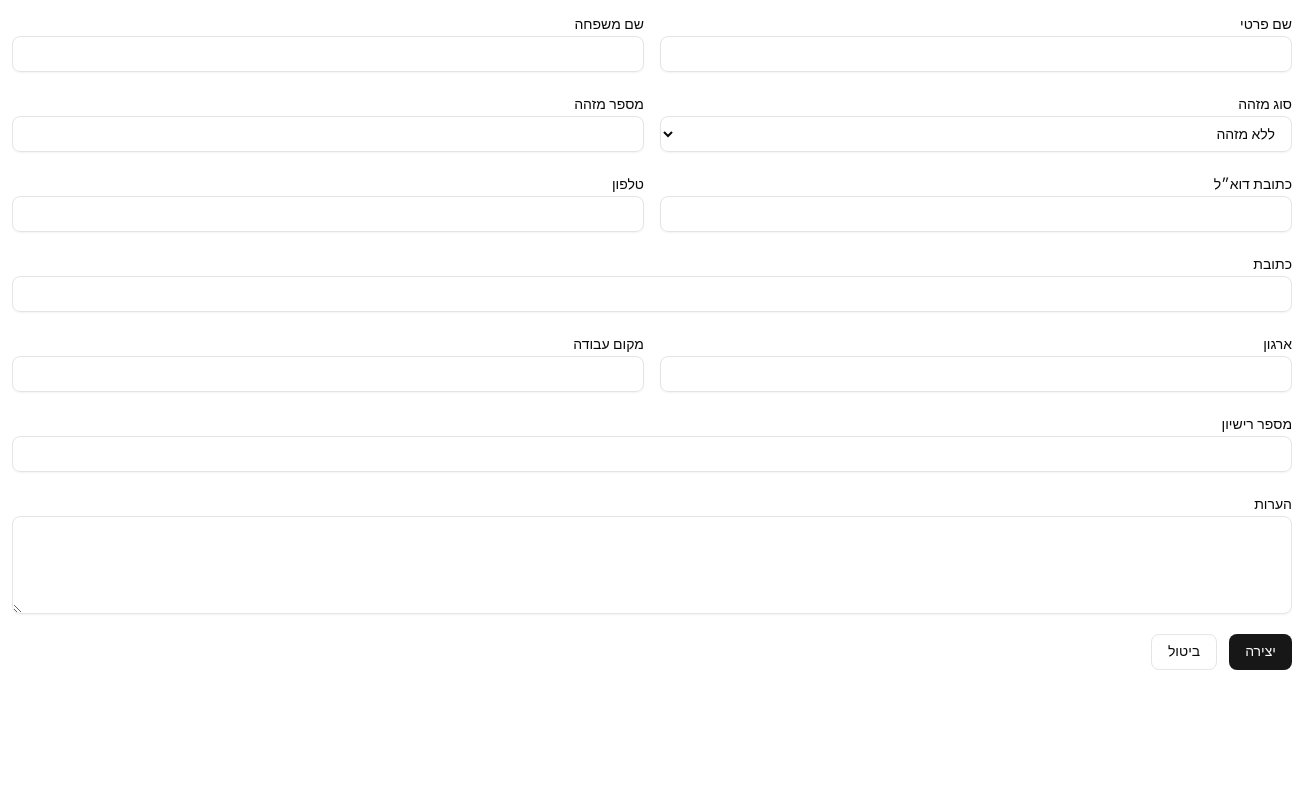
it: PersonForm › rejects an Israeli ID without its checksum
The width and height of the screenshot is (1304, 812).
In the field labelled "שם פרטי": (976, 54) x1=660 y1=36 x2=1292 y2=72, type "דנה"
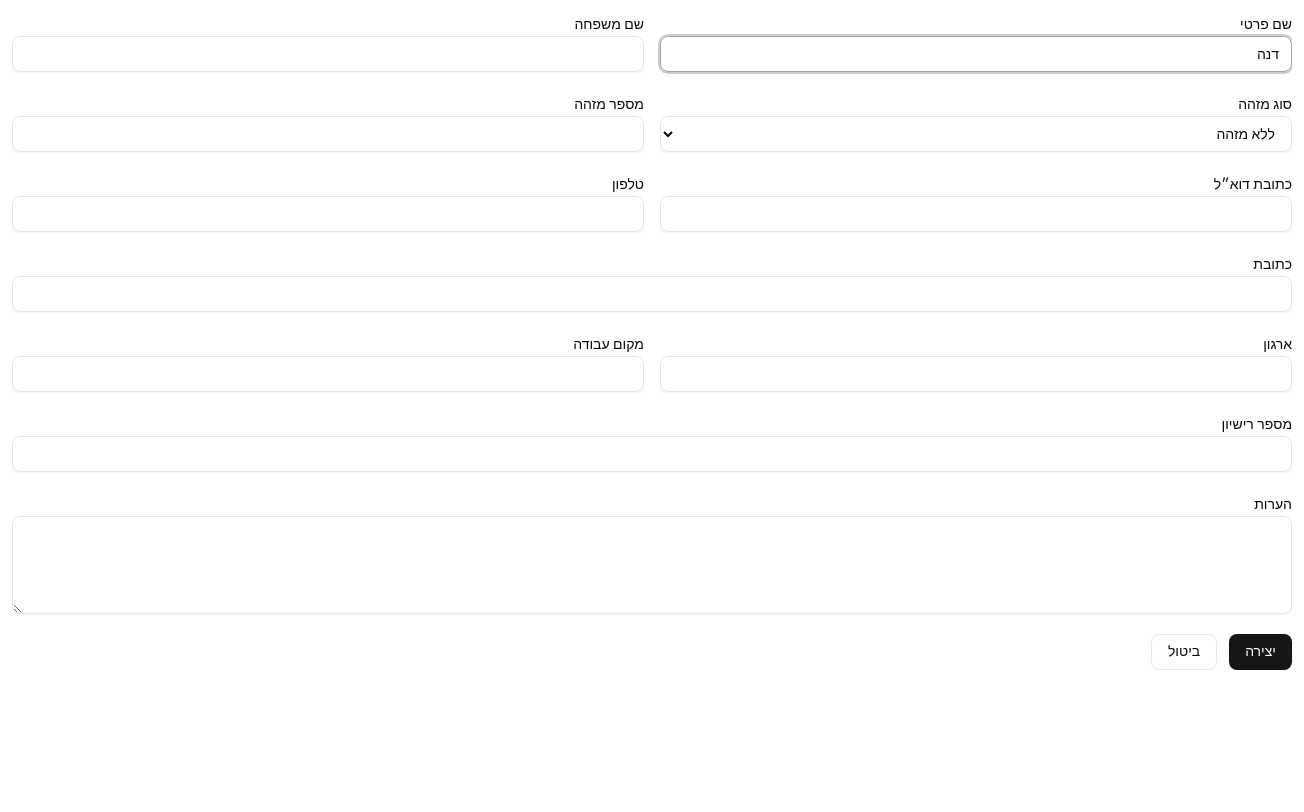
In the field labelled "שם משפחה": (328, 54) x1=12 y1=36 x2=644 y2=72, type "לוי"
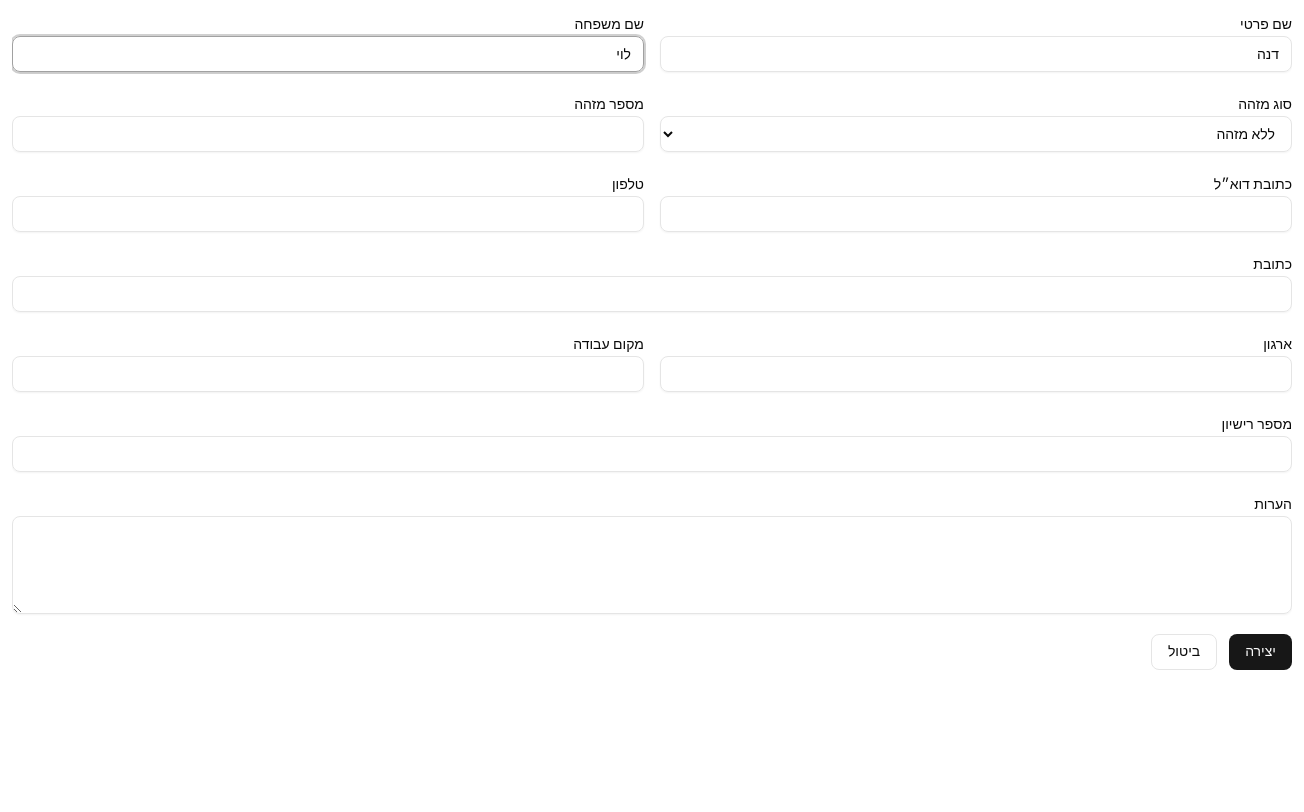
Select "תעודת זהות" in the dropdown labelled "סוג מזהה": (976, 134) x1=660 y1=116 x2=1292 y2=152
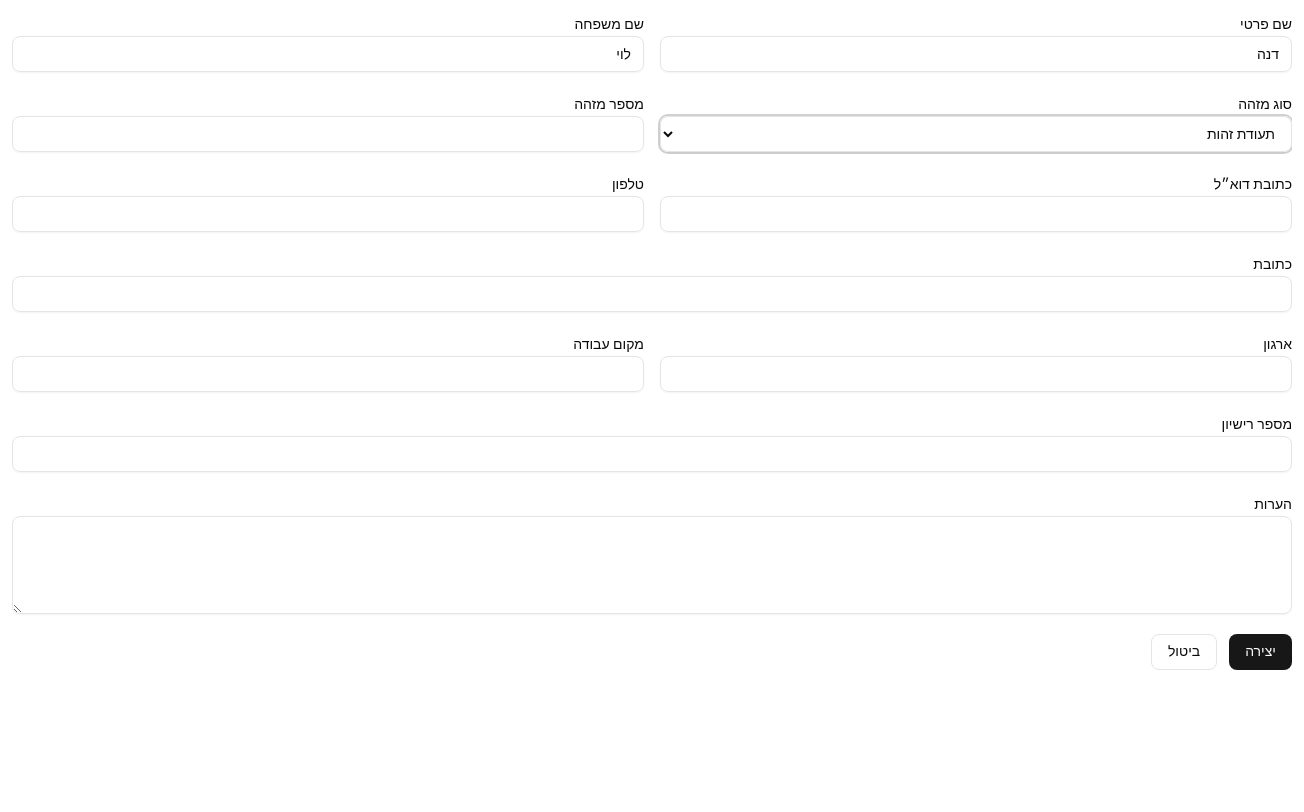
In the field labelled "מספר מזהה": (328, 134) x1=12 y1=116 x2=644 y2=152, type "123456780"
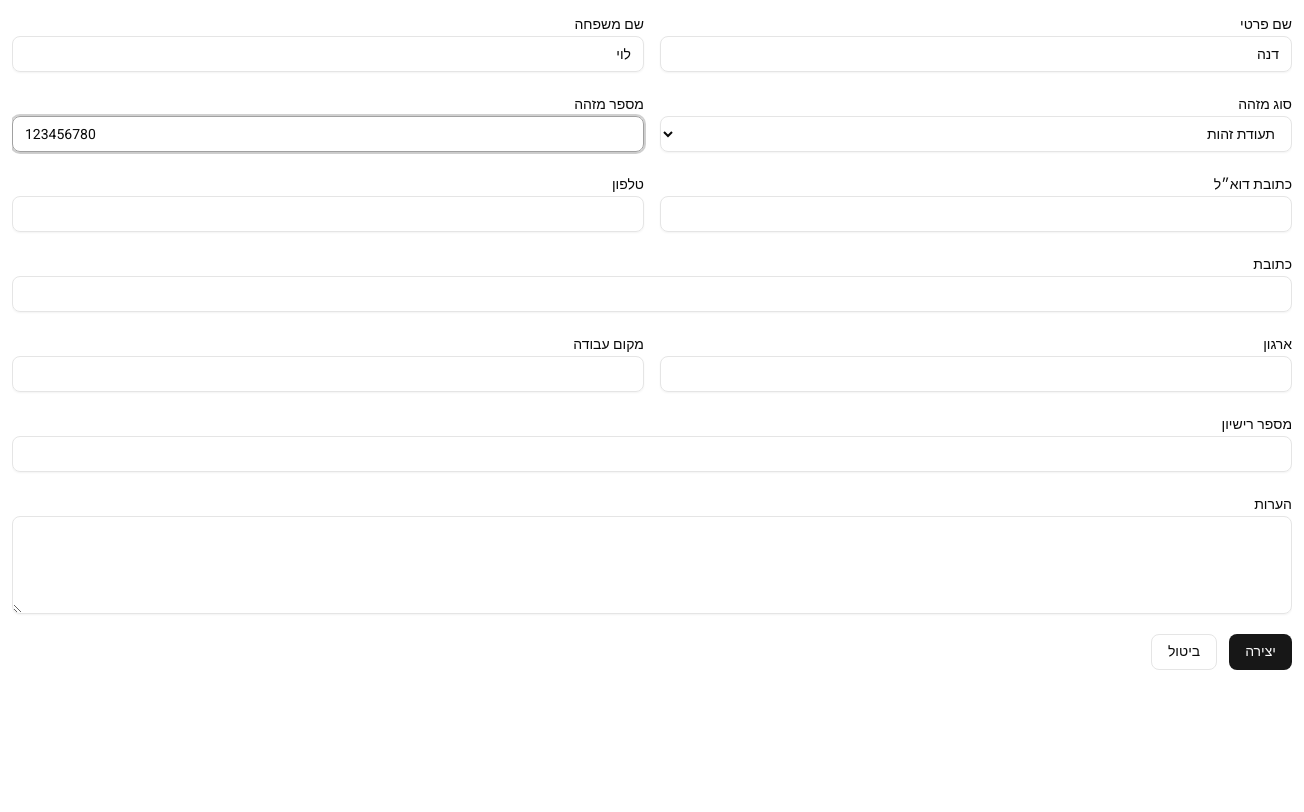
Click the button "יצירה": click(1261, 652) x1=1229 y1=634 x2=1292 y2=670
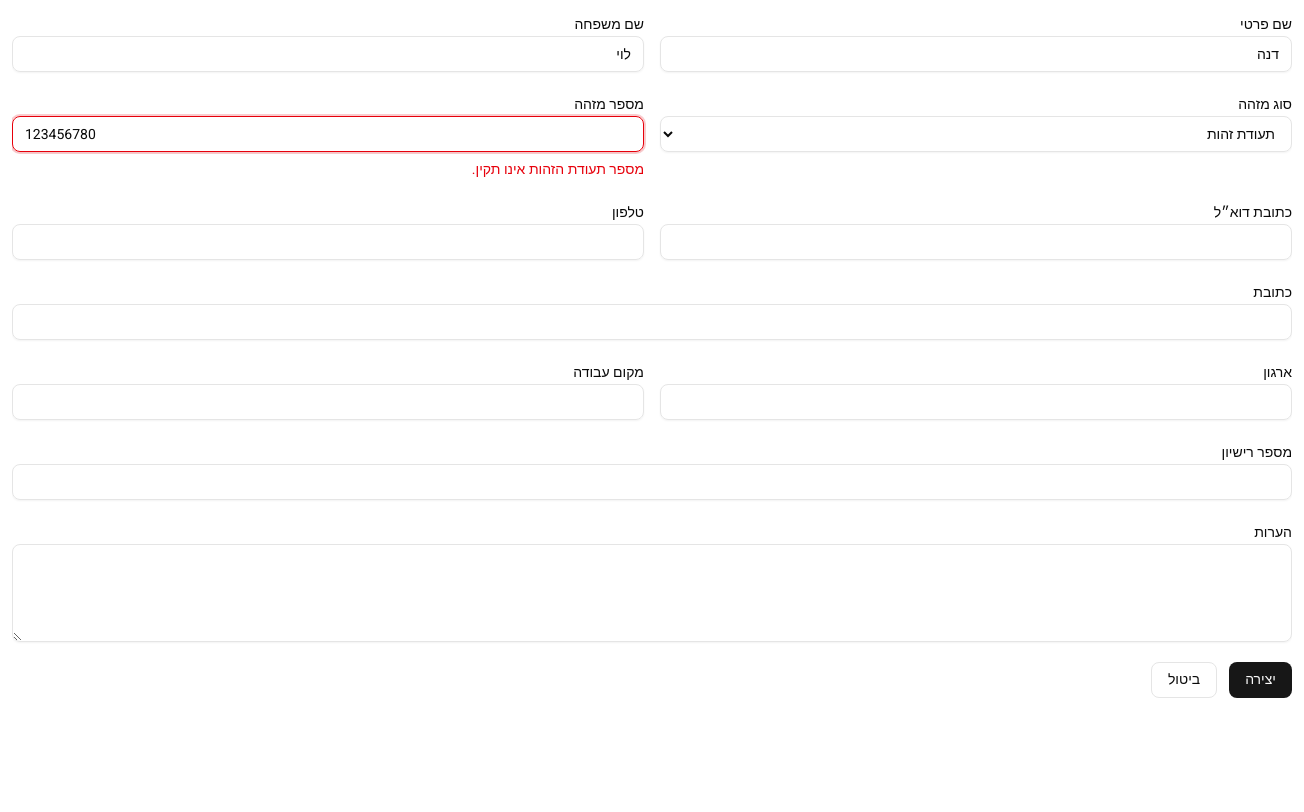
expect the text "מספר תעודת הזהות אינו תקין." is shown: met, box x1=472 y1=159 x2=644 y2=180
